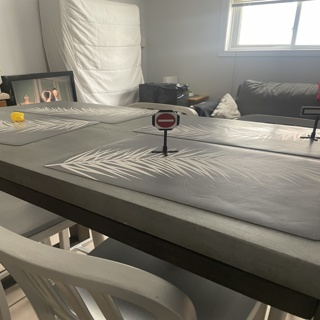sign_noentry: (151, 107, 178, 131)
